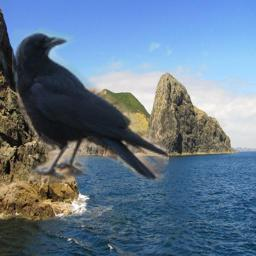Crow: (12, 26, 169, 186)
